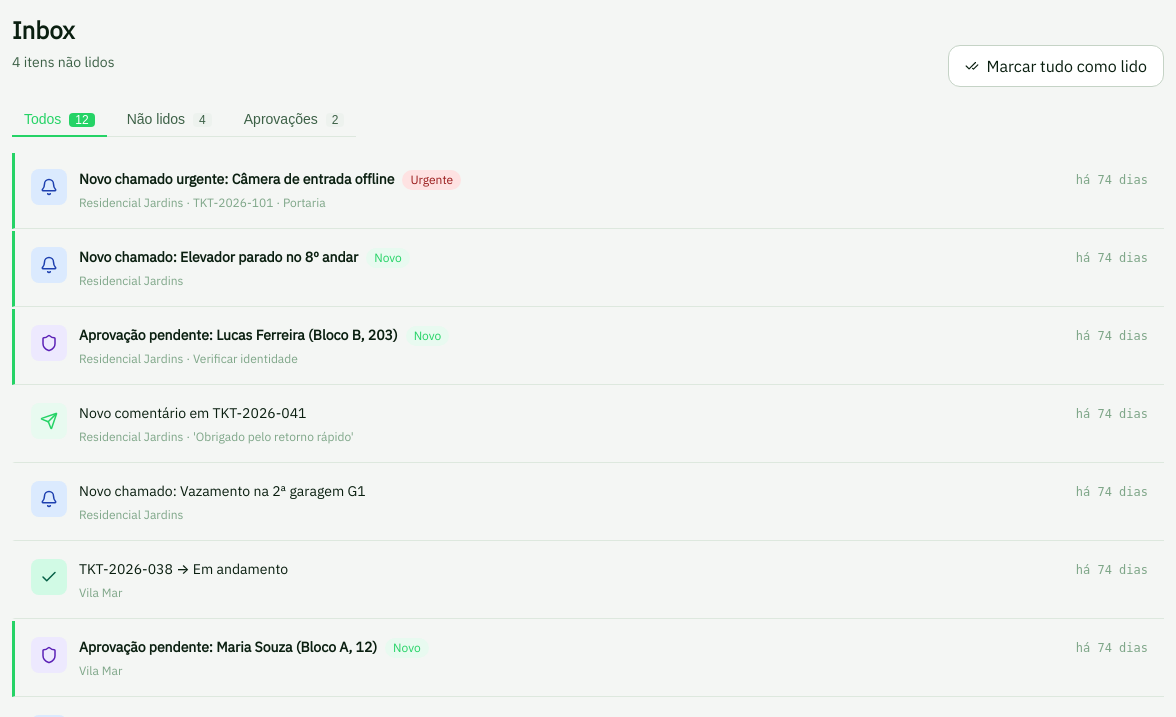
Scenario: ActivityFeed › marcar tudo como lido limpa contagem de unread
Click the button "Marcar tudo como lido".
click(1056, 66)  # box [948,45,1164,87]
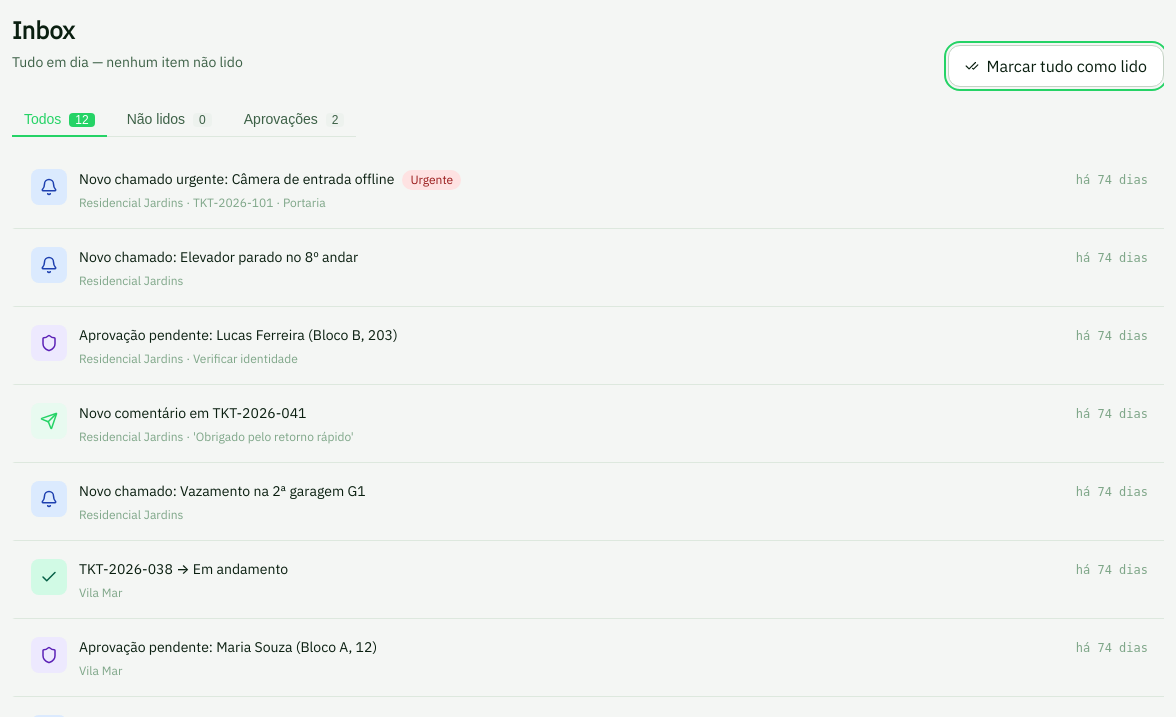
Result: the text "Tudo em dia — nenhum item não lido" is shown at [12,52,243,73]
